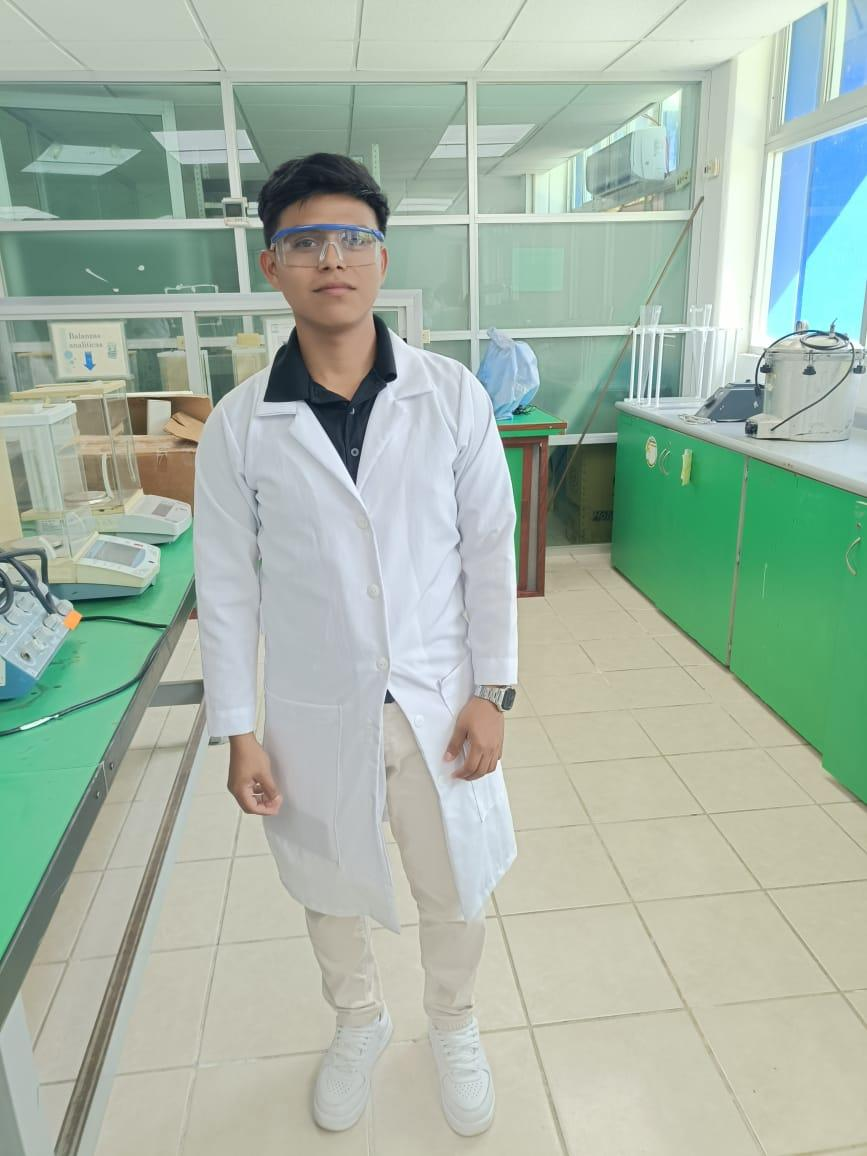Bata-Correcta: (195, 153, 516, 1135)
